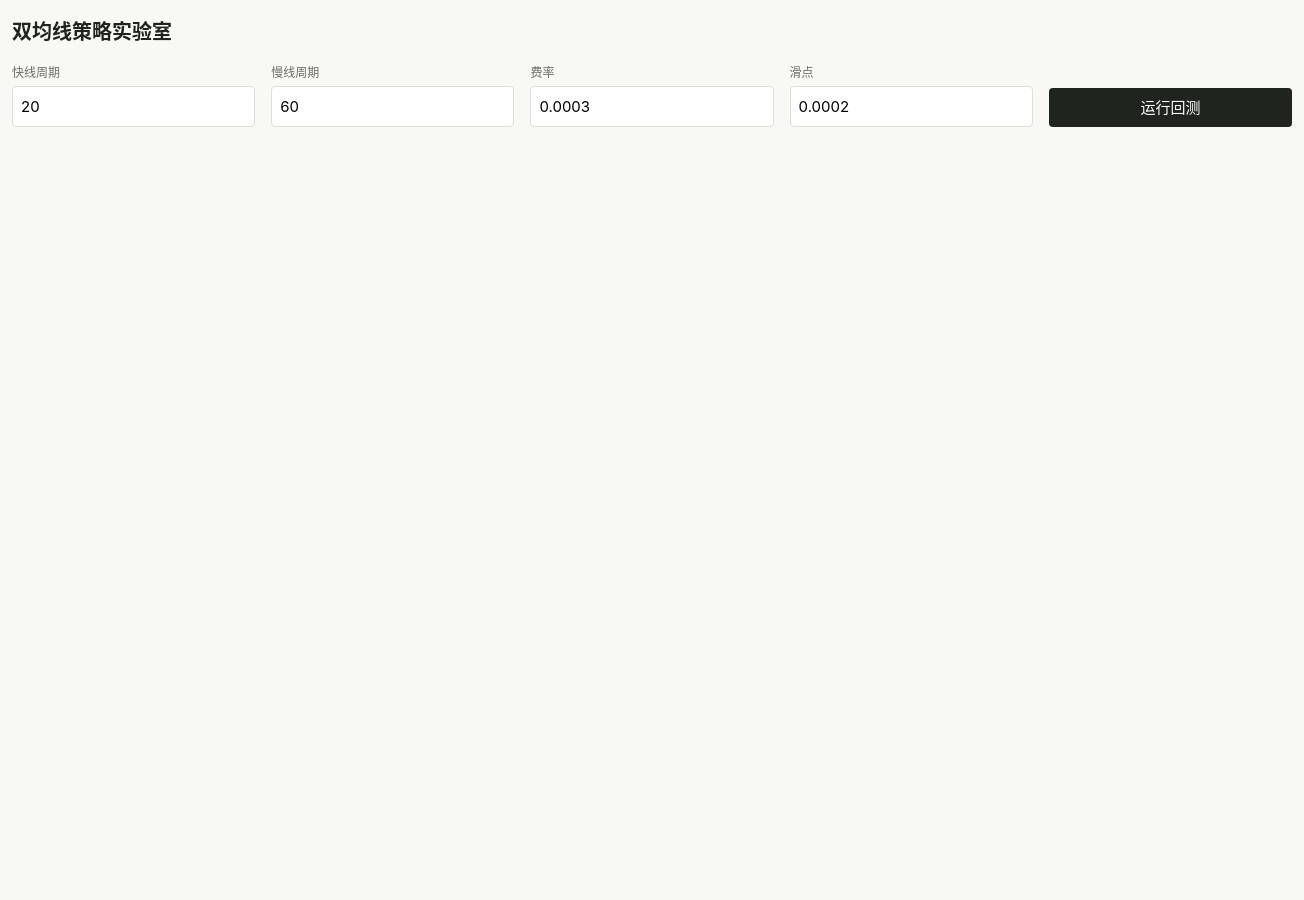
Scenario: renders strategy and buy-hold metrics with trade dates
Click the button "运行回测": click(1170, 108) top-left (1049, 88), bottom-right (1292, 128)
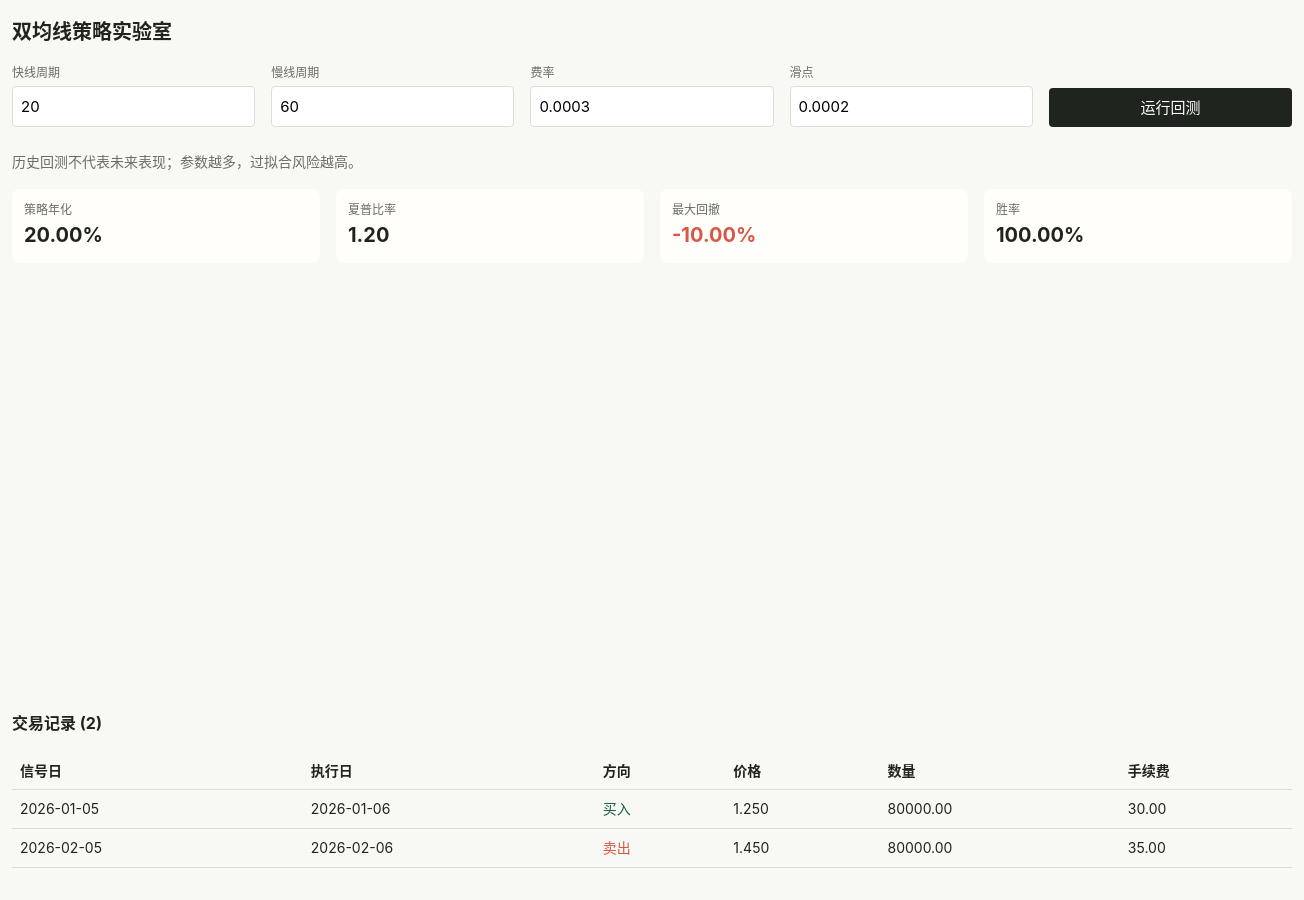
Check: the text "策略年化" is shown, box top-left (24, 202), bottom-right (72, 217)
Check: the text "夏普比率" is shown, box top-left (348, 202), bottom-right (396, 217)
Check: the column heading "信号日" is shown, box top-left (12, 752), bottom-right (303, 790)
